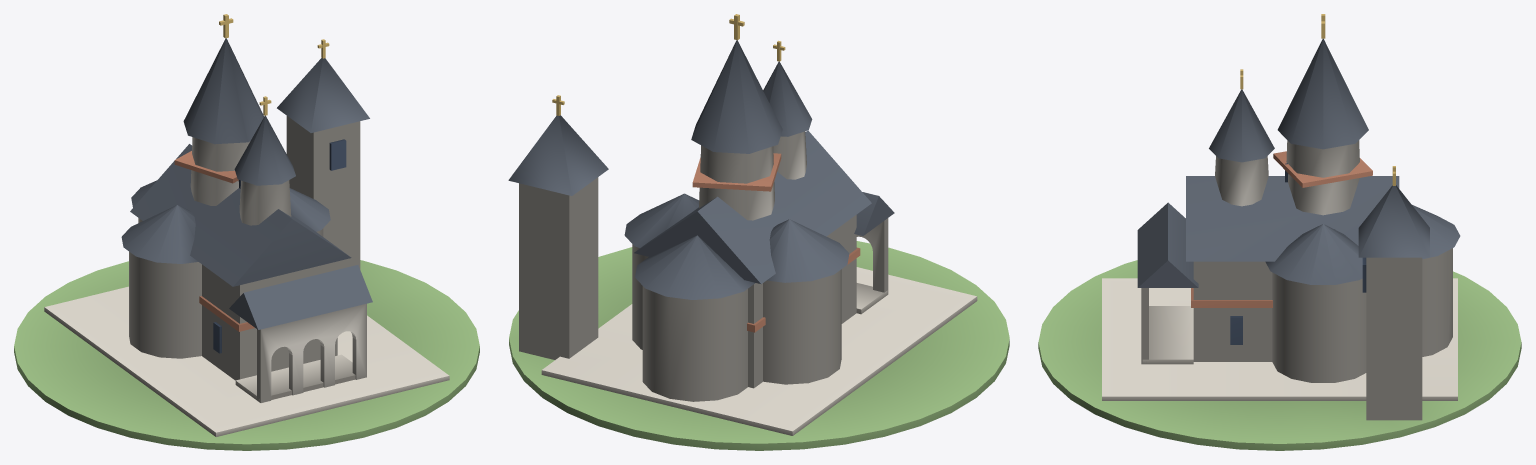
Rendered from rimnicu.glb.
3 views of the same model, side by side, from view 1: azimuth 30°, elevation 25°; view 2: azimuth 150°, elevation 25°; view 3: azimuth 270°, elevation 25° (orthographic). The views are drawn at different scales.
Visible parts, largest first — view 1: rimnicu_roofDark, rimnicu_grass, rimnicu_plaster, rimnicu_stoneLight, rimnicu_brick, rimnicu_window; view 2: rimnicu_plaster, rimnicu_roofDark, rimnicu_grass, rimnicu_stoneLight, rimnicu_brick; view 3: rimnicu_plaster, rimnicu_roofDark, rimnicu_grass, rimnicu_stoneLight, rimnicu_brick, rimnicu_window.
Part boxes in pixels (left/top/right/bottom): rimnicu_roofDark: left=121, top=38, right=372, bottom=329; rimnicu_grass: left=14, top=260, right=479, bottom=450; rimnicu_plaster: left=129, top=116, right=366, bottom=402; rimnicu_stoneLight: left=44, top=286, right=449, bottom=436; rimnicu_brick: left=174, top=151, right=254, bottom=331; rimnicu_window: left=213, top=139, right=346, bottom=353; rimnicu_plaster: left=519, top=131, right=888, bottom=401; rimnicu_roofDark: left=508, top=40, right=894, bottom=299; rimnicu_grass: left=509, top=241, right=1009, bottom=450; rimnicu_stoneLight: left=541, top=267, right=977, bottom=435; rimnicu_brick: left=692, top=153, right=860, bottom=332; rimnicu_plaster: left=1141, top=140, right=1452, bottom=420; rimnicu_roofDark: left=1137, top=38, right=1460, bottom=287; rimnicu_grass: left=1038, top=260, right=1521, bottom=450; rimnicu_stoneLight: left=1102, top=278, right=1457, bottom=400; rimnicu_brick: left=1191, top=151, right=1372, bottom=307; rimnicu_window: left=1230, top=163, right=1366, bottom=344.
Size of the model in its own units: 1.9 by 1.45 by 1.9.
